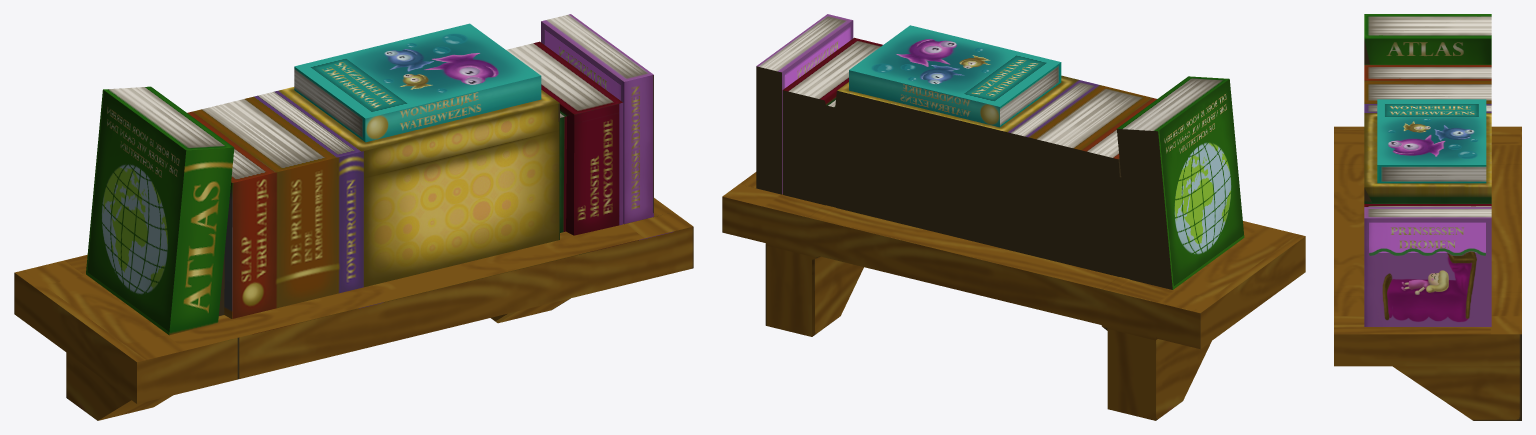
The model's file is Bookshelf.fbx.
3 renders of one model, left to right at view 1: azimuth 30°, elevation 25°; view 2: azimuth 150°, elevation 25°; view 3: azimuth 270°, elevation 25°, orthographic. The views are drawn at different scales.
Visible parts, largest first — view 1: Cube; view 2: Cube; view 3: Cube.
Part boxes in pixels (x1,y1,x2,y2): Cube: [14, 14, 693, 420]; Cube: [722, 14, 1305, 420]; Cube: [1334, 14, 1521, 420].
Bounding box in the file's own units: 352 × 193 × 134.
Materials: 1 (1 with a texture image).
